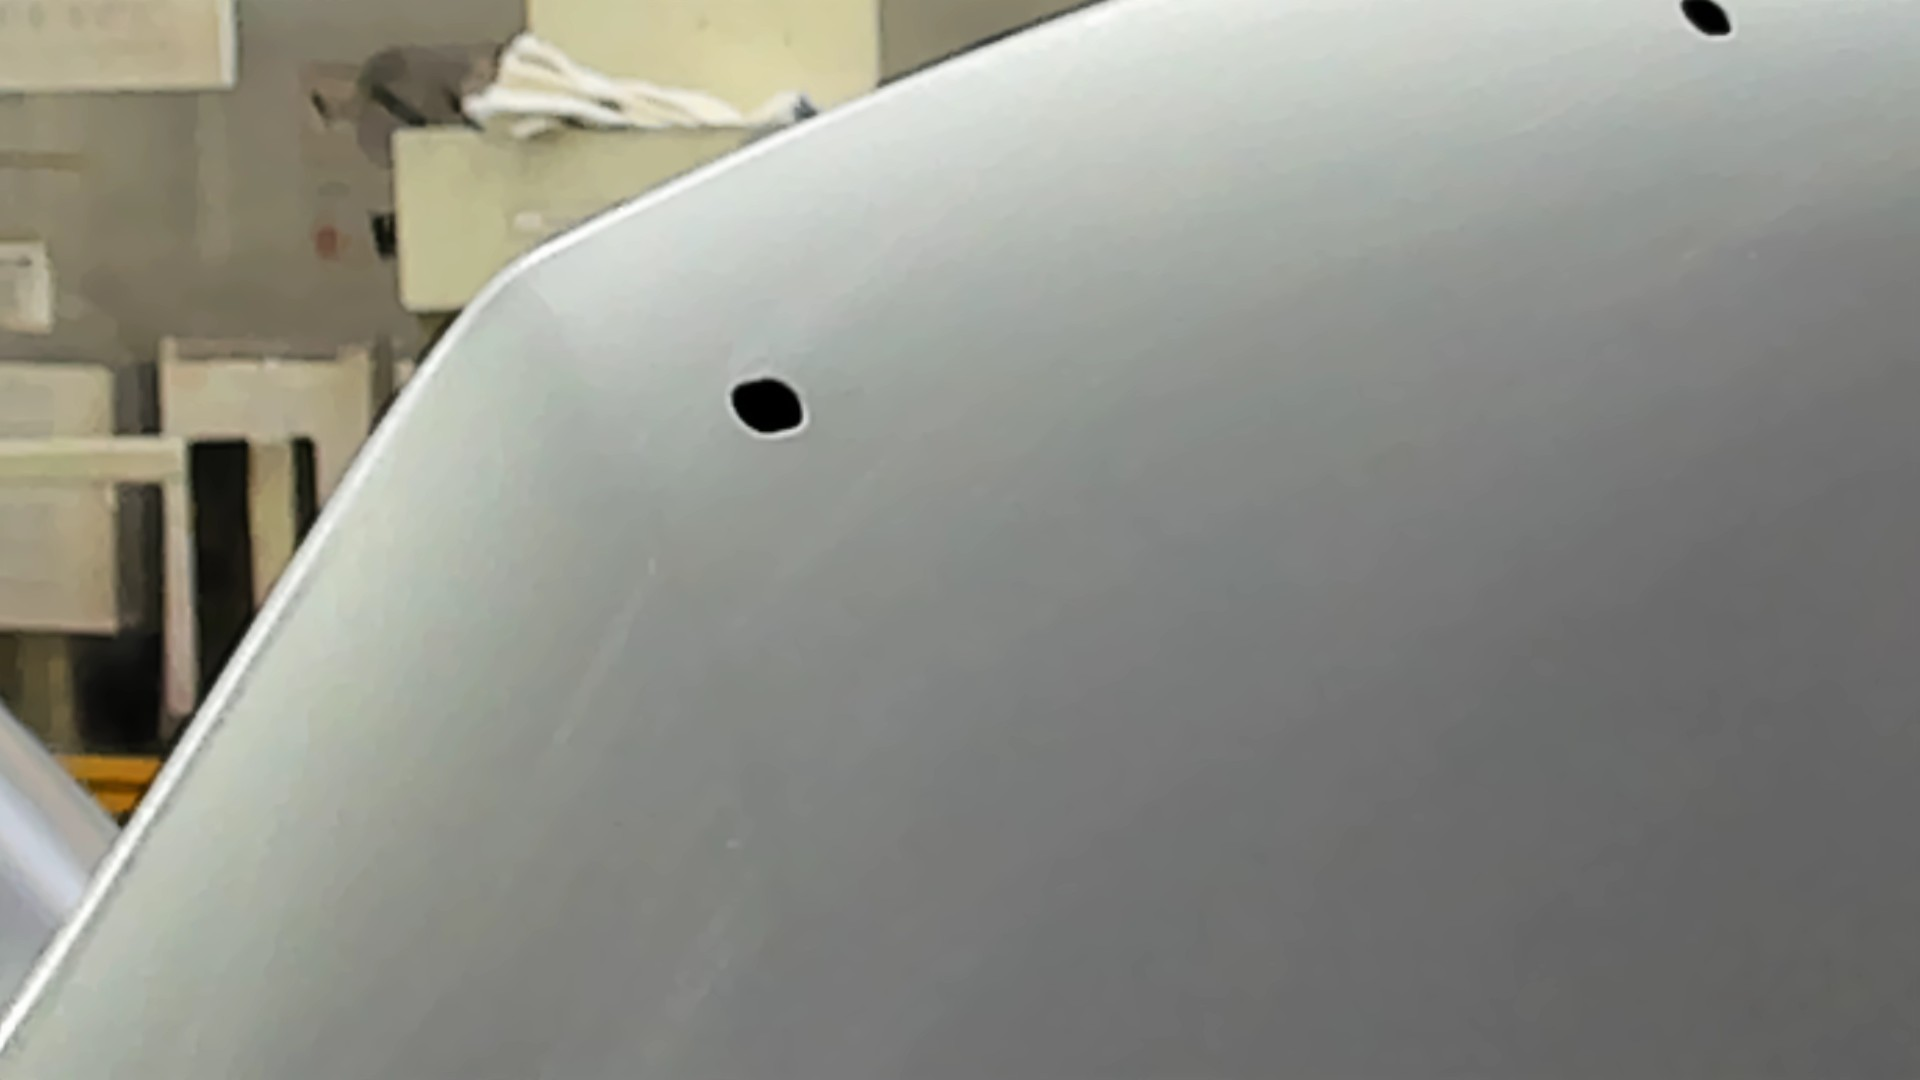amorfo: (724, 372, 815, 446), (1677, 1, 1735, 42)
